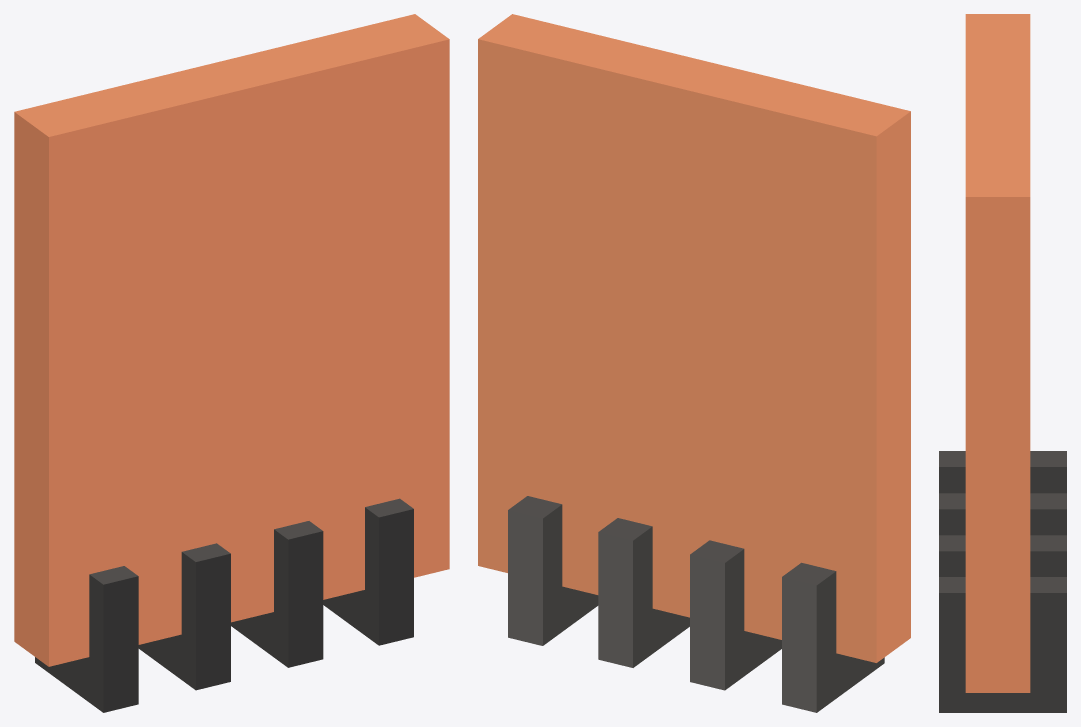
File: Notepad.glb
The picture shows the model from 3 angles, left to right: view 1: azimuth 30°, elevation 25°; view 2: azimuth 150°, elevation 25°; view 3: azimuth 270°, elevation 25°; orthographic projection. The views are drawn at different scales.
Visible parts, largest first — view 1: SO_Notepad_01; view 2: SO_Notepad_01; view 3: SO_Notepad_01.
Part boxes in pixels (x1,y1,x2,y2): SO_Notepad_01: (14, 14, 449, 712); SO_Notepad_01: (478, 14, 910, 712); SO_Notepad_01: (939, 14, 1066, 712).
Bounding box in the file's own units: 0.3308 × 0.4537 × 0.0977.
Materials: 1 (1 with a texture image).
